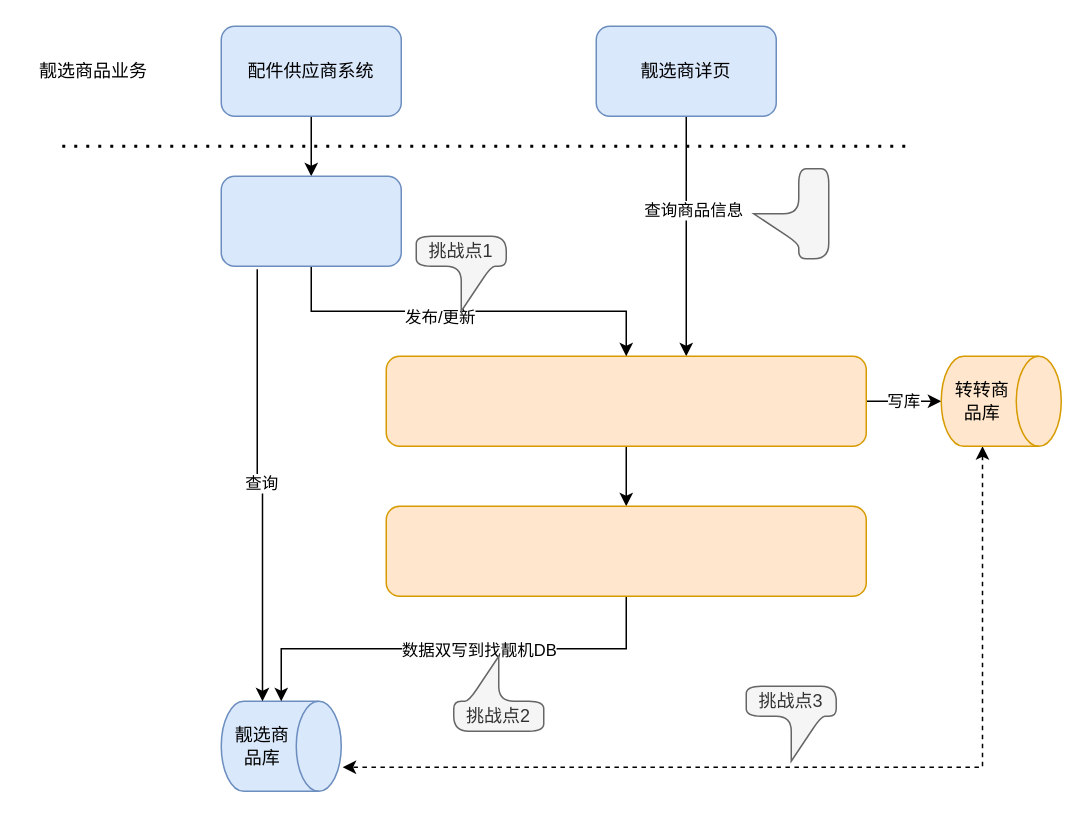
The diagram is 1088 pixels wide and 818 high, and some of its shapes have lost their labels. The centre of each missing label's shape, as x and y in pixels:
"优化点" belongs at pixel 790 213.
"找靓机靓选商品服务" belongs at pixel 310 220.
"转转商品服务" belongs at pixel 625 400.
"转转商品消息中心（MQ）" belongs at pixel 625 550.
